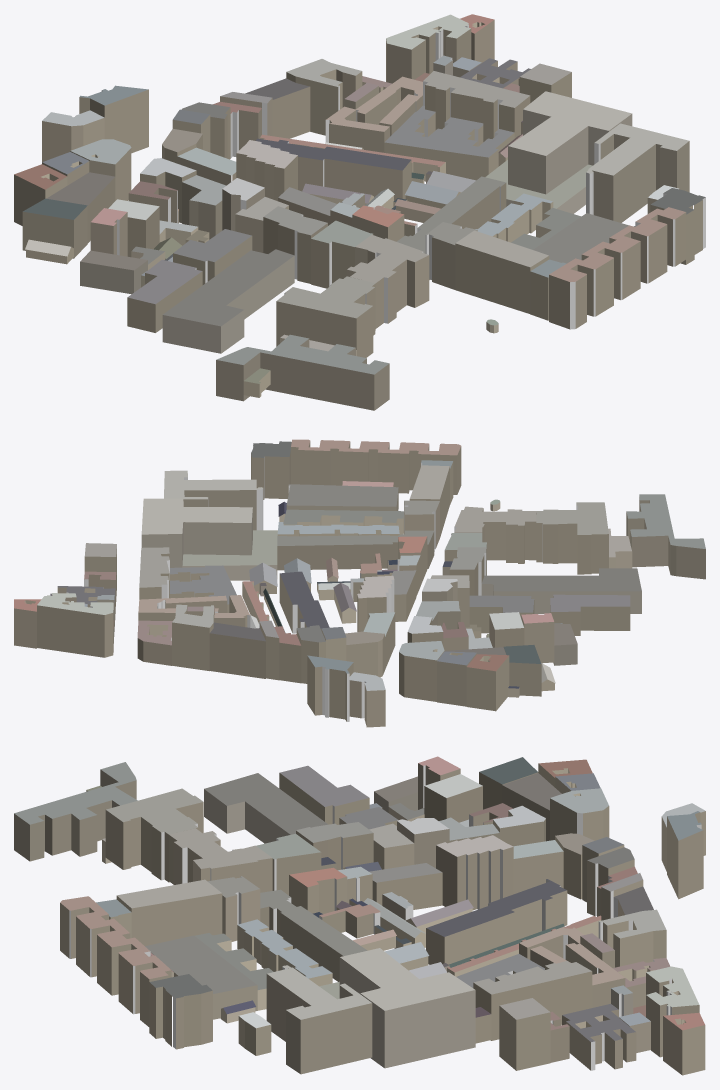
The picture shows the model from 3 angles, top to bottom: view 1: azimuth 30°, elevation 25°; view 2: azimuth 150°, elevation 25°; view 3: azimuth 270°, elevation 25°; orthographic projection. The views are drawn at different scales.
Visible parts, largest first — view 1: tuile; view 2: tuile; view 3: tuile.
Part boxes in pixels (x1,y1,x2,y2): tuile: (14,14,705,410); tuile: (14,439,705,727); tuile: (14,756,705,1075).
Size of the model in its own units: 268 by 29.22 by 279.
